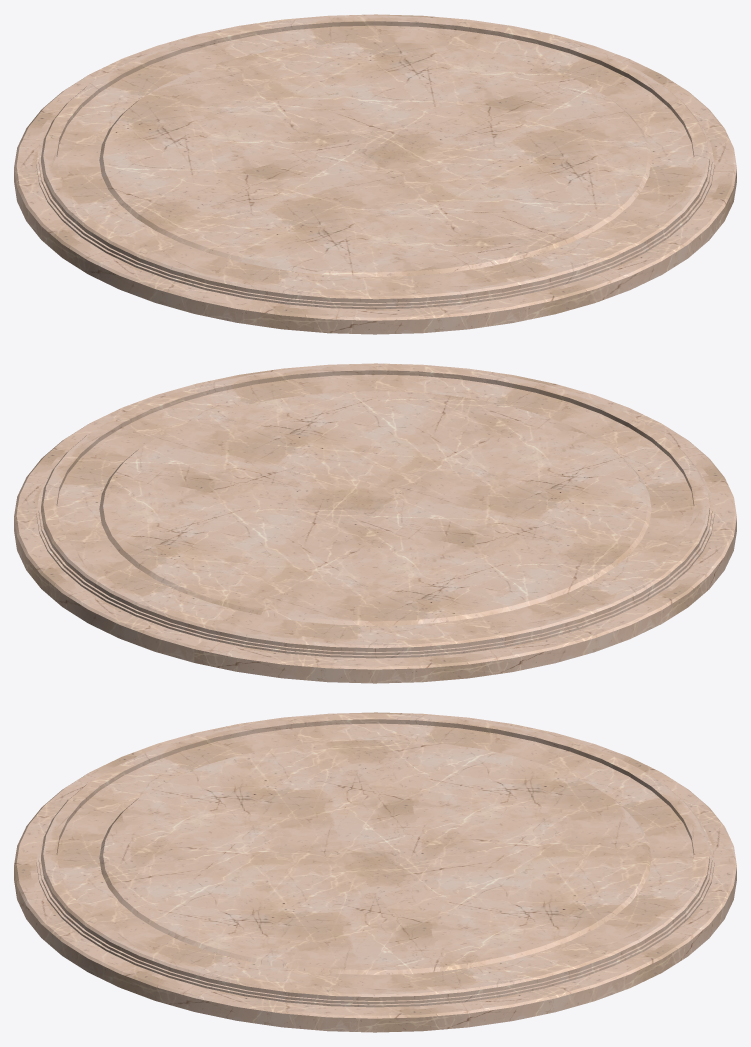
File: SM_upgrade_room_ground_v2.fbx
3 views of the same model, one above another, from view 1: azimuth 30°, elevation 25°; view 2: azimuth 150°, elevation 25°; view 3: azimuth 270°, elevation 25° (orthographic).
Visible parts, largest first — view 1: SM_Blockout_upgrade_room_ground_v2_01; view 2: SM_Blockout_upgrade_room_ground_v2_01; view 3: SM_Blockout_upgrade_room_ground_v2_01.
Boxes of the visible parts, left/top/right/bottom form: SM_Blockout_upgrade_room_ground_v2_01: left=14, top=14, right=736, bottom=334; SM_Blockout_upgrade_room_ground_v2_01: left=14, top=363, right=736, bottom=683; SM_Blockout_upgrade_room_ground_v2_01: left=14, top=712, right=736, bottom=1032.
Size of the model in its own units: 3972 by 157 by 3972.
